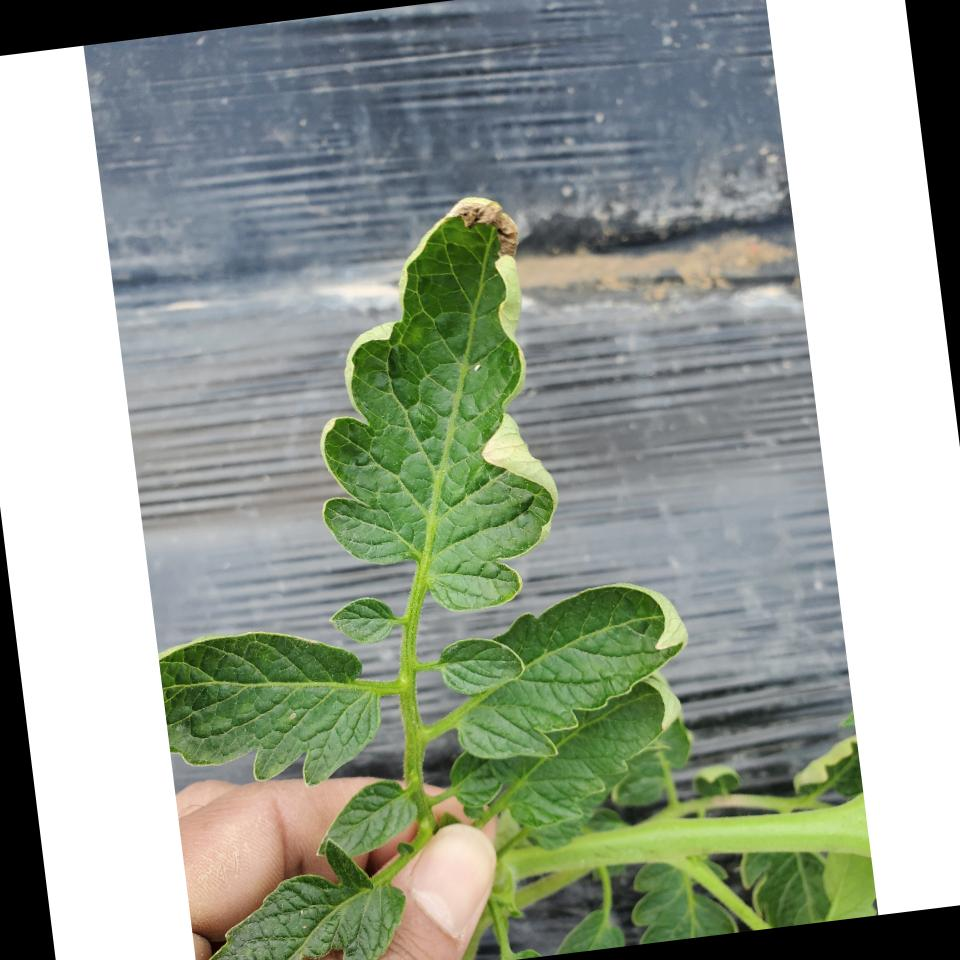tomato_yellow_leaf_curl_virus: (280, 190, 592, 628), (417, 559, 709, 771)
